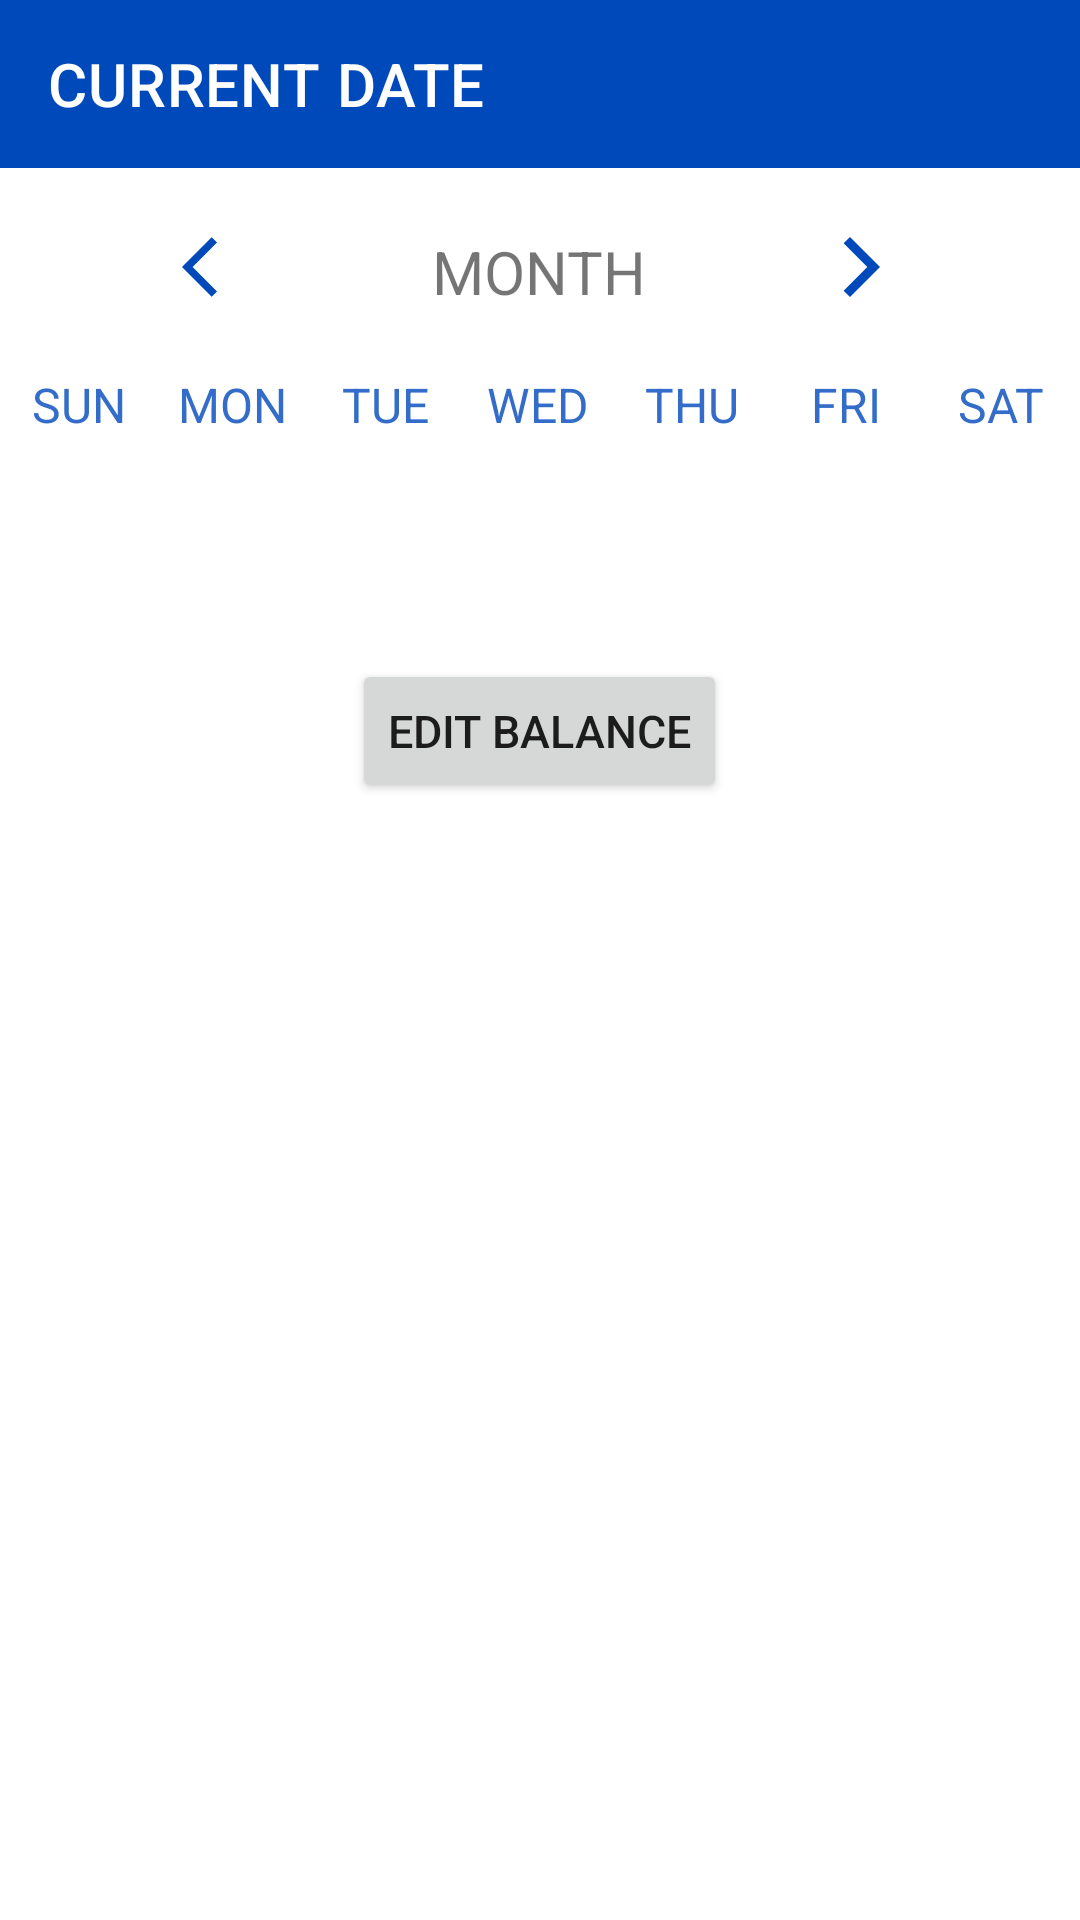

Where icons sit on this 1080px×1920px app screen, as bbox(x1, y1, x2, y2):
arrow back: bbox(182, 237, 217, 297)
arrow forward: bbox(843, 237, 880, 297)
